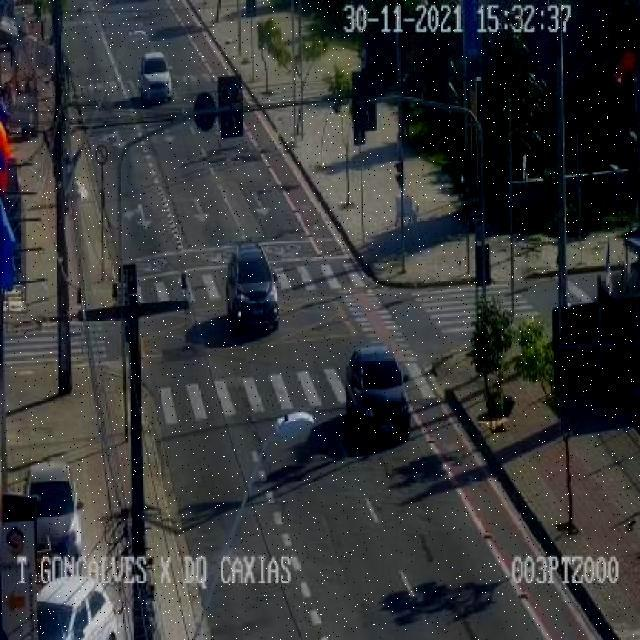Car: (217, 231, 290, 351), (29, 554, 122, 640), (21, 443, 91, 543), (349, 339, 419, 436), (124, 43, 190, 112)
